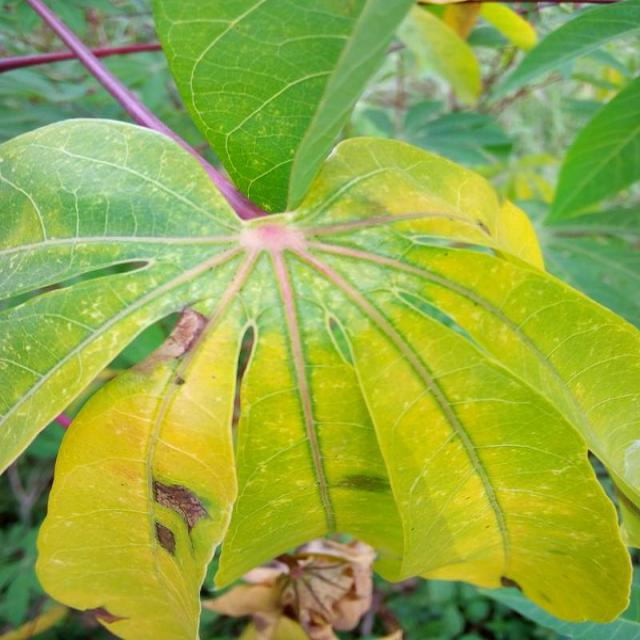cassava leaf: (2, 2, 639, 636), (151, 0, 419, 215)
